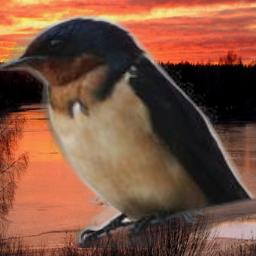Swallow: (0, 15, 256, 248), (67, 94, 224, 223)
